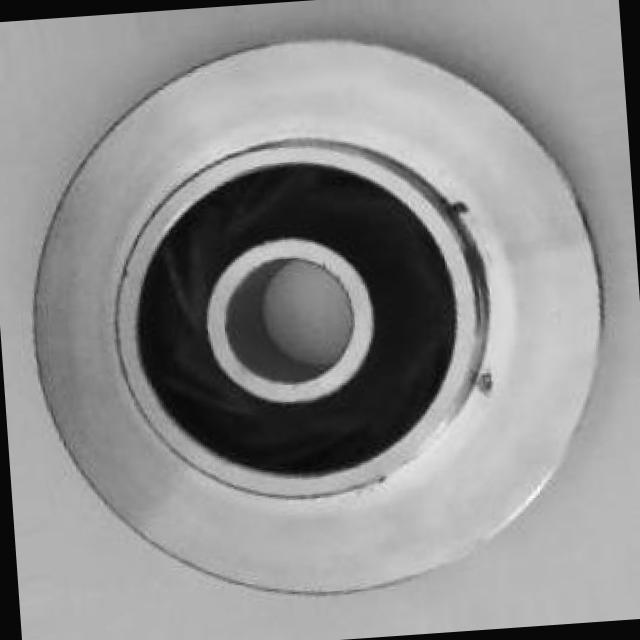Defect: (442, 193, 477, 219)
